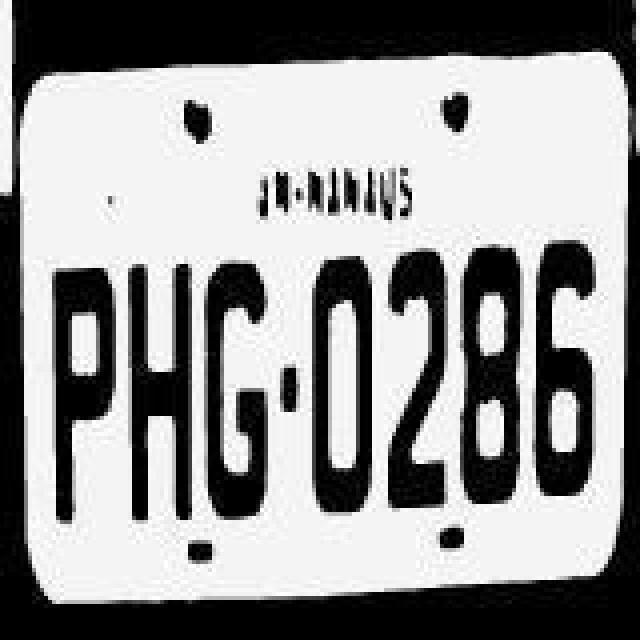2: (380, 246, 452, 514)
6: (530, 218, 598, 502)
8: (458, 238, 526, 506)
G: (200, 248, 272, 520)
H: (120, 248, 200, 520)
O: (306, 252, 374, 516)
P: (40, 260, 120, 524)
